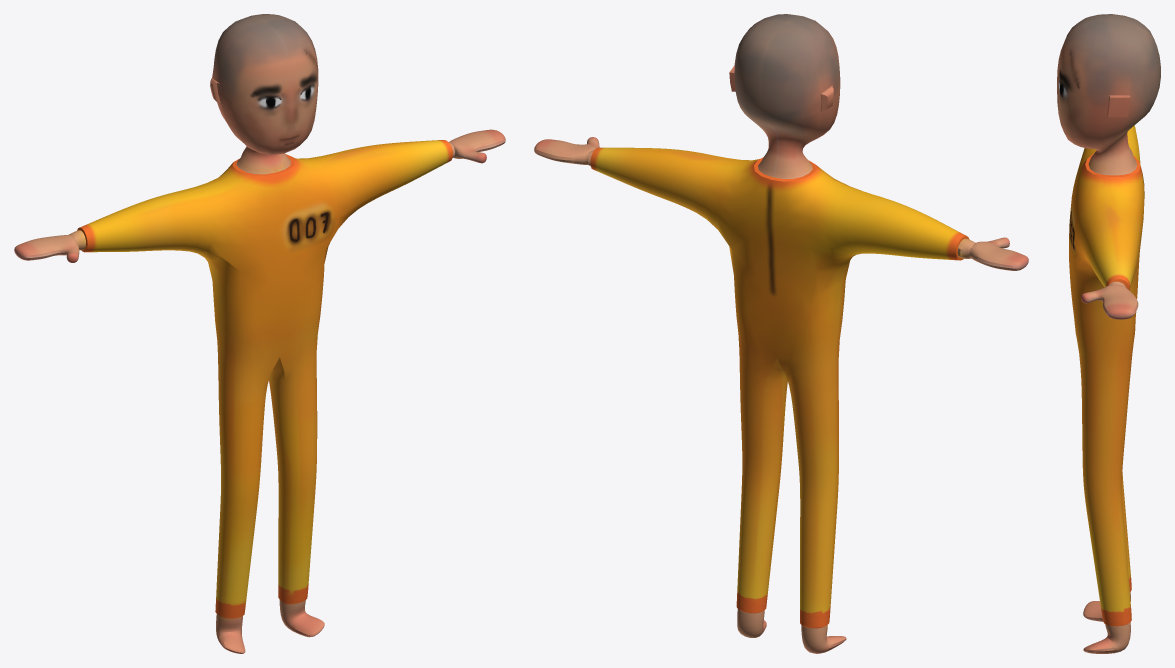
File: Chrminal4.fbx
3 views of the same model, side by side, from view 1: azimuth 30°, elevation 25°; view 2: azimuth 150°, elevation 25°; view 3: azimuth 270°, elevation 25° (orthographic).
Visible parts, largest first — view 1: Vert; view 2: Vert; view 3: Vert.
Boxes of the visible parts, x1=… form: Vert: x1=14, y1=14, x2=505, y2=653; Vert: x1=534, y1=14, x2=1028, y2=653; Vert: x1=1057, y1=14, x2=1160, y2=653.
Bounding box in the file's own units: 1010 × 1230 × 188.
1 material, 1 textured.
